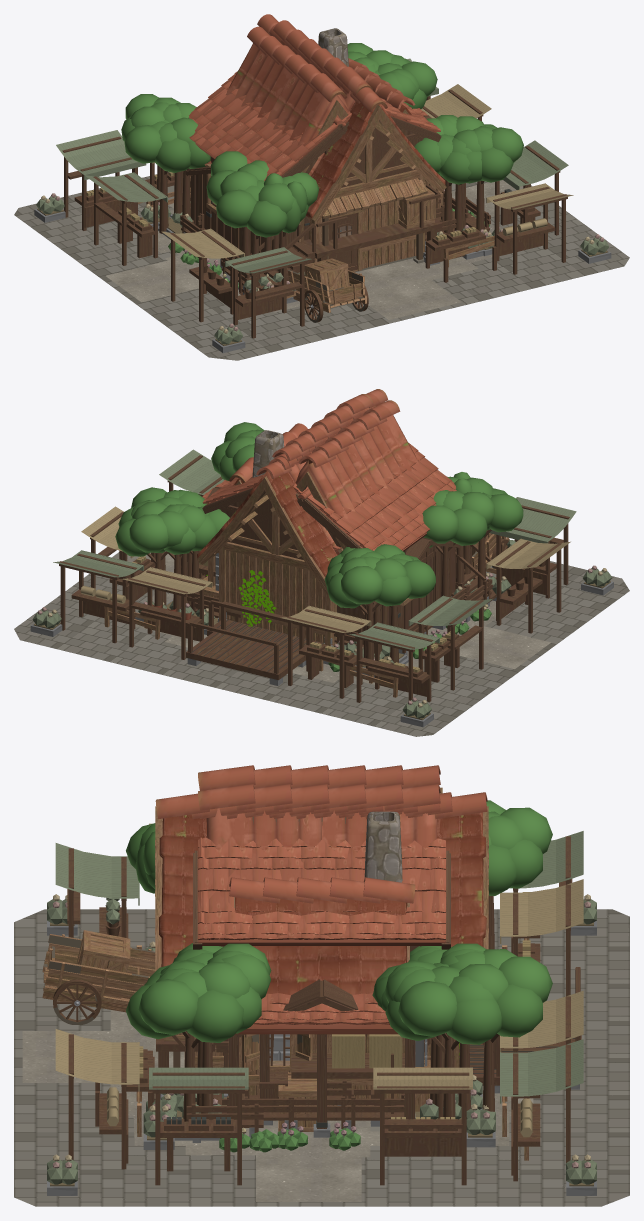
Rendered from kit-detail.glb.
The picture shows the model from 3 angles, top to bottom: view 1: azimuth 30°, elevation 25°; view 2: azimuth 150°, elevation 25°; view 3: azimuth 270°, elevation 25°; orthographic projection. The views are drawn at different scales.
Parts seen in each view (by area): view 1: market-civic-square-surface-paving, market-civic-square-stalls, Wall_WoodWear_Door_Flat (×3), Roof_RoundTiles_4x4 (×3), market-civic-square-roof (×2), facility-farm-roof (×2), market-civic-square-surface-path, plaza-festival-court-foliage, plaza-town-square-foliage, Roof_FlatTiles_4x6 (×2), park-promenade-foliage, park-woodland-walk-foliage (+23 smaller); view 2: market-civic-square-surface-paving, market-civic-square-stalls, Wall_WoodWear_Door_Flat (×2), market-civic-square-roof (×2), Roof_RoundTiles_4x4 (×3), facility-farm-roof (×2), plaza-fountain-court-foliage, market-civic-square-stage, Roof_FlatTiles_4x6 (×2), park-woodland-walk-foliage, plaza-festival-court-foliage, plaza-town-square-foliage (+23 smaller); view 3: market-civic-square-surface-paving, market-civic-square-roof (×2), Roof_RoundTiles_4x4 (×3), facility-granary-roof (×2), market-civic-square-stalls, Roof_FlatTiles_4x6 (×2), Roof_2x4_FlatTile (×2), market-civic-square-surface-path, plaza-festival-court-foliage, plaza-fountain-court-foliage, plaza-town-square-foliage, facility-market-kit-Prop_Wagon-0-mesh (+35 smaller).
Boxes of the visible parts, left/top/right/bottom form: market-civic-square-surface-paving: left=14, top=172, right=629, bottom=360; market-civic-square-stalls: left=62, top=89, right=567, bottom=338; Wall_WoodWear_Door_Flat (×3): left=309, top=105, right=446, bottom=271; Roof_RoundTiles_4x4 (×3): left=204, top=20, right=415, bottom=165; market-civic-square-roof (×2): left=56, top=58, right=573, bottom=273; facility-farm-roof (×2): left=189, top=71, right=431, bottom=180; market-civic-square-surface-path: left=106, top=180, right=523, bottom=319; plaza-festival-court-foliage: left=216, top=116, right=523, bottom=237; plaza-town-square-foliage: left=124, top=50, right=437, bottom=172; Roof_FlatTiles_4x6 (×2): left=257, top=14, right=445, bottom=218; park-promenade-foliage: left=158, top=57, right=492, bottom=275; park-woodland-walk-foliage: left=150, top=59, right=493, bottom=252; market-civic-square-surface-paving: left=14, top=552, right=629, bottom=736; market-civic-square-stalls: left=59, top=455, right=569, bottom=702; Wall_WoodWear_Door_Flat (×2): left=197, top=402, right=384, bottom=646; market-civic-square-roof (×2): left=53, top=449, right=576, bottom=649; Roof_RoundTiles_4x4 (×3): left=229, top=394, right=419, bottom=518; facility-farm-roof (×2): left=202, top=443, right=456, bottom=551; plaza-fountain-court-foliage: left=115, top=500, right=411, bottom=608; market-civic-square-stage: left=186, top=621, right=305, bottom=685; Roof_FlatTiles_4x6 (×2): left=197, top=389, right=387, bottom=577; park-woodland-walk-foliage: left=177, top=430, right=487, bottom=671; plaza-festival-court-foliage: left=211, top=422, right=523, bottom=532; plaza-town-square-foliage: left=118, top=487, right=435, bottom=598; market-civic-square-surface-paving: left=14, top=909, right=629, bottom=1206; market-civic-square-roof (×2): left=55, top=823, right=583, bottom=1103; Roof_RoundTiles_4x4 (×3): left=198, top=765, right=440, bottom=903; facility-granary-roof (×2): left=193, top=837, right=450, bottom=949; market-civic-square-stalls: left=67, top=836, right=572, bottom=1185; Roof_FlatTiles_4x6 (×2): left=155, top=792, right=487, bottom=966; Roof_2x4_FlatTile (×2): left=235, top=897, right=407, bottom=995; market-civic-square-surface-path: left=22, top=1031, right=361, bottom=1201; plaza-festival-court-foliage: left=126, top=823, right=250, bottom=1042; plaza-fountain-court-foliage: left=448, top=807, right=552, bottom=1037; plaza-town-square-foliage: left=385, top=800, right=508, bottom=1044; facility-market-kit-Prop_Wagon-0-mesh: left=42, top=934, right=155, bottom=1024.
Bounding box in the file's own units: 16 × 6.9 × 14.
Materials: 24 (19 with a texture image).
